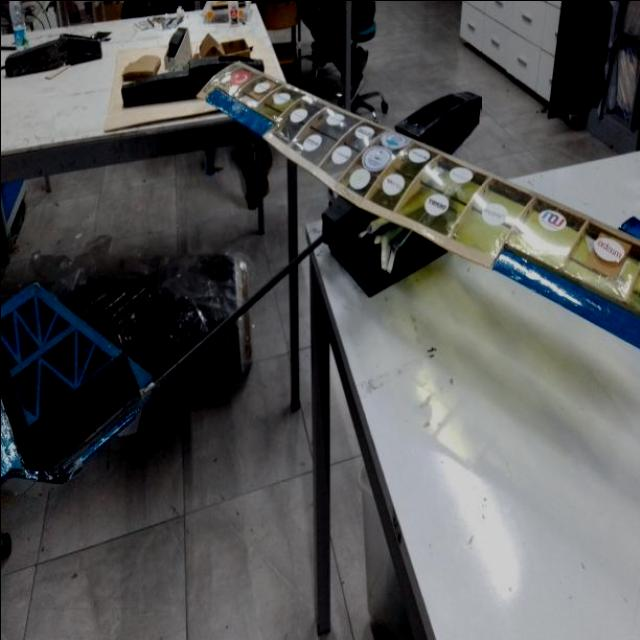plane: (0, 59, 640, 488)
